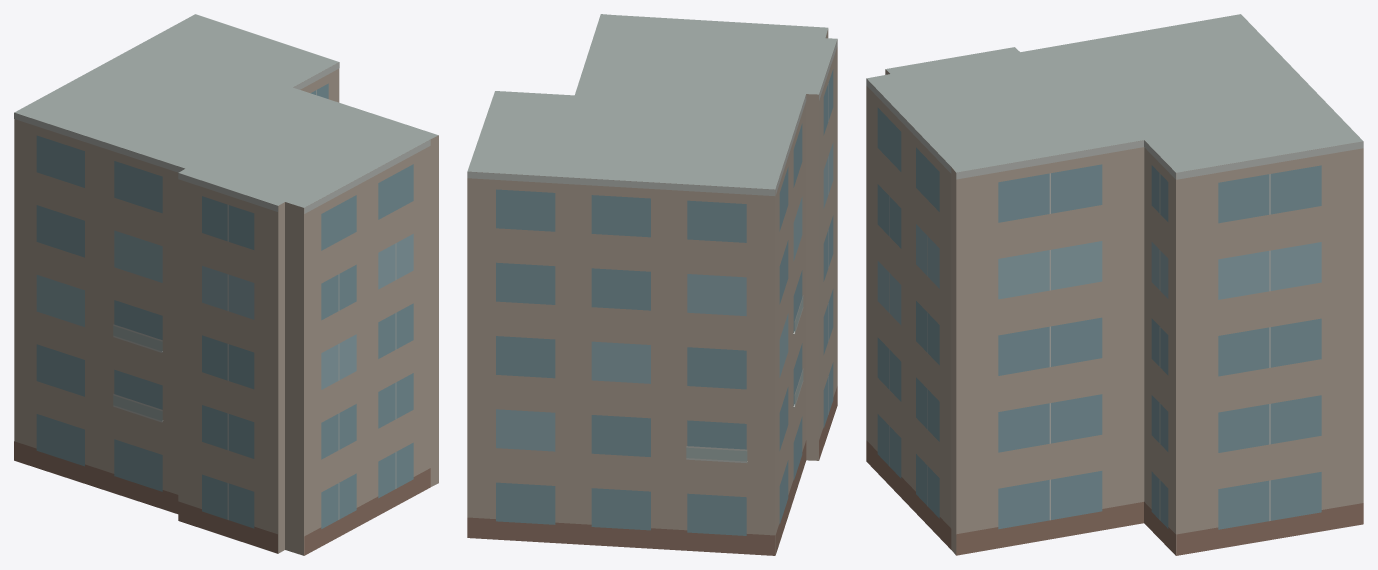
Rendered from survey-upis-32689345.glb.
The picture shows the model from 3 angles, left to right: view 1: azimuth 30°, elevation 25°; view 2: azimuth 150°, elevation 25°; view 3: azimuth 270°, elevation 25°; orthographic projection. The views are drawn at different scales.
Parts seen in each view (by area): view 1: survey-upis-32689345.tmp; view 2: survey-upis-32689345.tmp; view 3: survey-upis-32689345.tmp.
Boxes of the visible parts, <box> form: survey-upis-32689345.tmp: <box>14,14,438,555</box>; survey-upis-32689345.tmp: <box>467,14,837,555</box>; survey-upis-32689345.tmp: <box>866,14,1363,555</box>.
Bounding box in the file's own units: 11.93 × 13.4 × 15.77.
